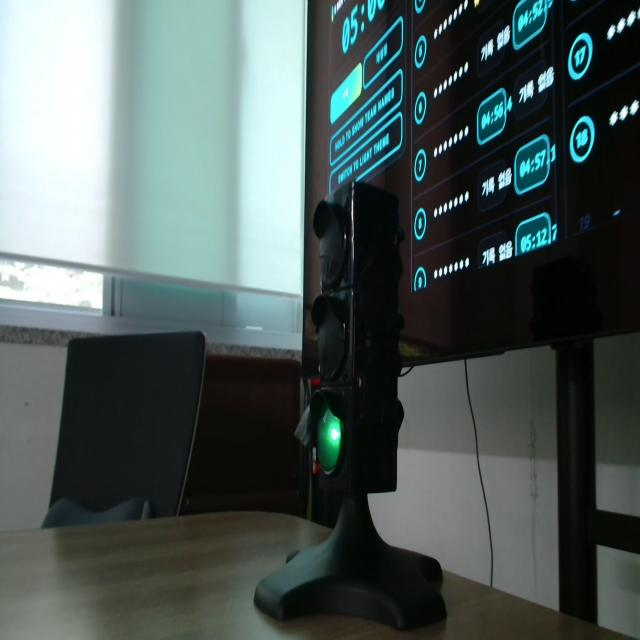green_light: (318, 408, 341, 473)
